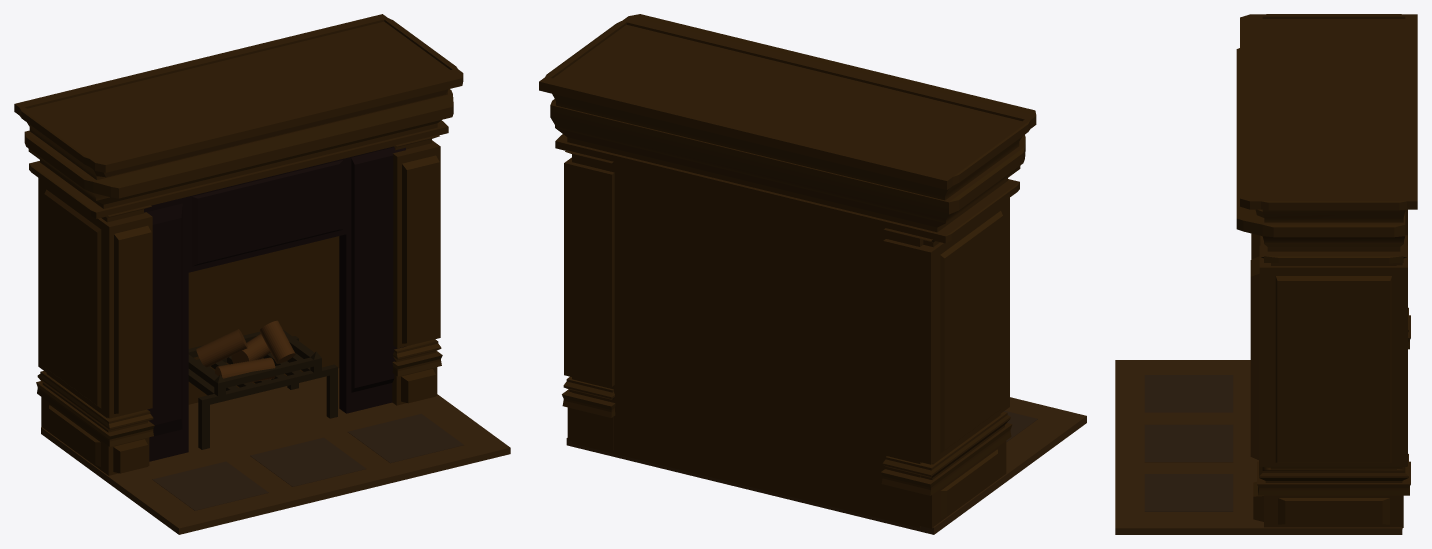
File: M_ChemineeMarronCuisine.fbx
3 views of the same model, side by side, from view 1: azimuth 30°, elevation 25°; view 2: azimuth 150°, elevation 25°; view 3: azimuth 270°, elevation 25° (orthographic). The views are drawn at different scales.
Parts seen in each view (by area): view 1: Cylindre.001; view 2: Cylindre.001; view 3: Cylindre.001.
Boxes of the visible parts, left/top/right/bottom form: Cylindre.001: left=14, top=14, right=510, bottom=534; Cylindre.001: left=539, top=14, right=1086, bottom=534; Cylindre.001: left=1115, top=14, right=1417, bottom=534.
Bounding box in the file's own units: 1207 × 1043 × 818.
